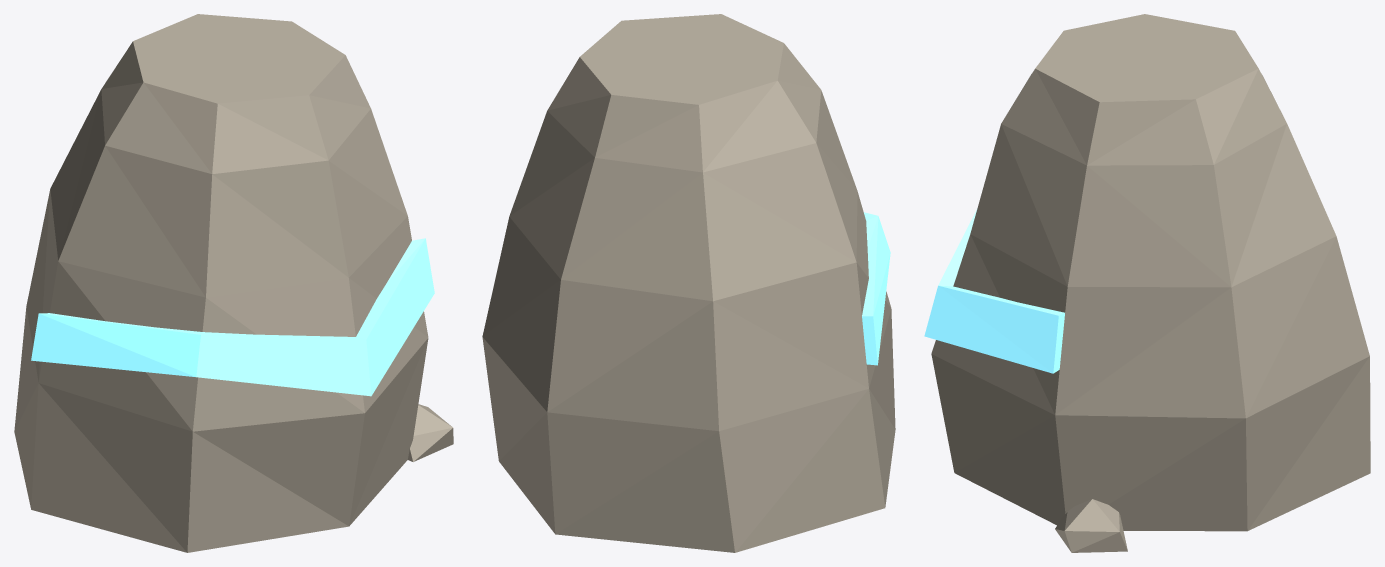
File: DA_CalmStone.fbx
The picture shows the model from 3 angles, left to right: view 1: azimuth 30°, elevation 25°; view 2: azimuth 150°, elevation 25°; view 3: azimuth 270°, elevation 25°; orthographic projection.
Visible parts, largest first — view 1: DA_CalmStone_Stone, DA_CalmStone_Neon_Rune; view 2: DA_CalmStone_Stone, DA_CalmStone_Neon_Rune; view 3: DA_CalmStone_Stone, DA_CalmStone_Neon_Rune.
Boxes of the visible parts, x1,y1,x2,y2 form: DA_CalmStone_Stone: (14, 14, 453, 552); DA_CalmStone_Neon_Rune: (31, 238, 434, 396); DA_CalmStone_Stone: (482, 14, 895, 552); DA_CalmStone_Neon_Rune: (862, 212, 890, 365); DA_CalmStone_Stone: (931, 14, 1370, 552); DA_CalmStone_Neon_Rune: (924, 208, 1064, 373).
Bounding box in the file's own units: 6 × 6 × 6.
